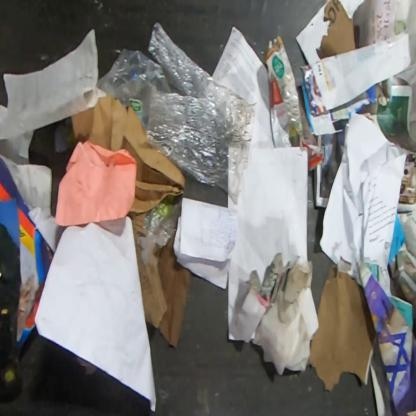cardboard: (71, 94, 186, 239)
soft_plastic: (146, 21, 257, 208), (96, 48, 172, 132), (137, 194, 182, 265)
